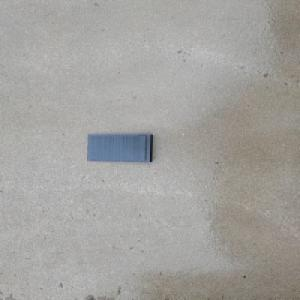PlasticPart: (84, 133, 153, 163)
